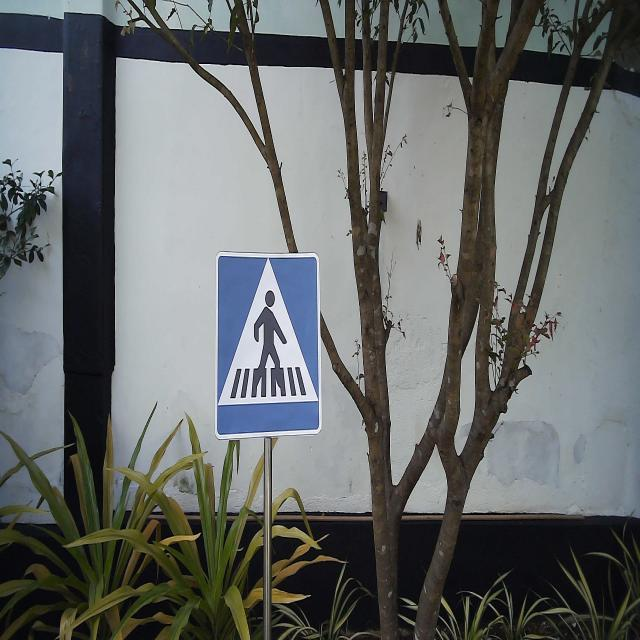crosswalk_sign: (214, 249, 322, 441)
